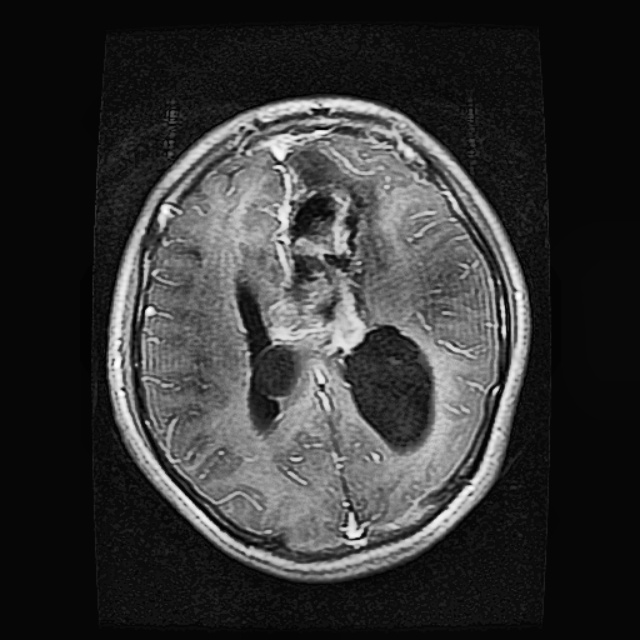Glioma: (237, 148, 383, 353)
